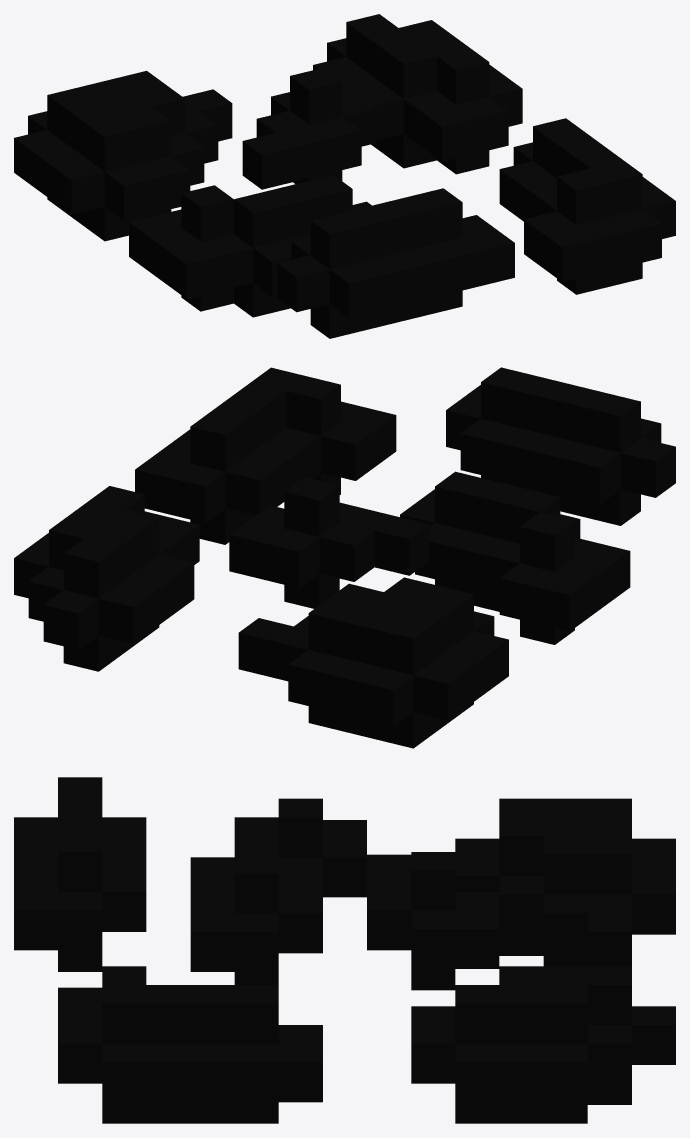
The model's file is pollution.glb.
3 views of the same model, one above another, from view 1: azimuth 30°, elevation 25°; view 2: azimuth 150°, elevation 25°; view 3: azimuth 270°, elevation 25° (orthographic). The views are drawn at different scales.
Parts seen in each view (by area): view 1: Grid; view 2: Grid; view 3: Grid.
Boxes of the visible parts, x1,y1,x2,y2 form: Grid: (14,14,675,338); Grid: (14,367,675,748); Grid: (14,777,675,1123).
Size of the model in its own units: 0.8125 by 0.25 by 0.9375.
Materials: 1 (1 with a texture image).
